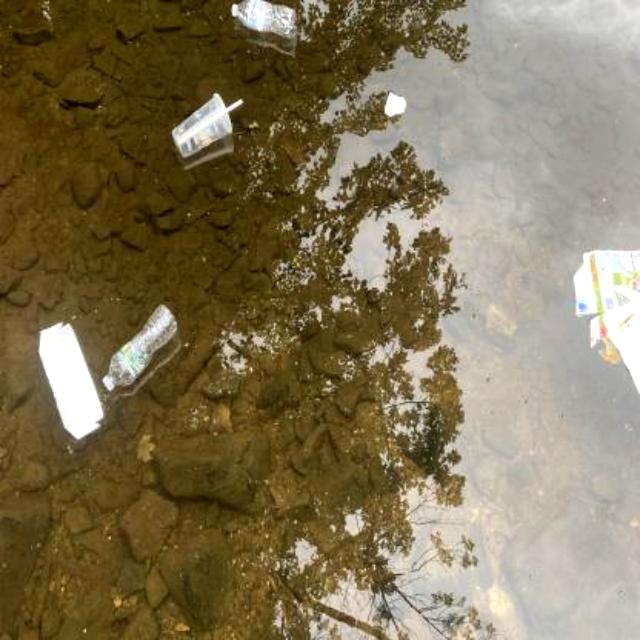Cardboard: (570, 238, 640, 404)
Paper: (32, 317, 110, 443), (378, 89, 408, 118)
Plastic: (97, 299, 181, 397), (167, 88, 251, 156), (226, 0, 300, 42)
